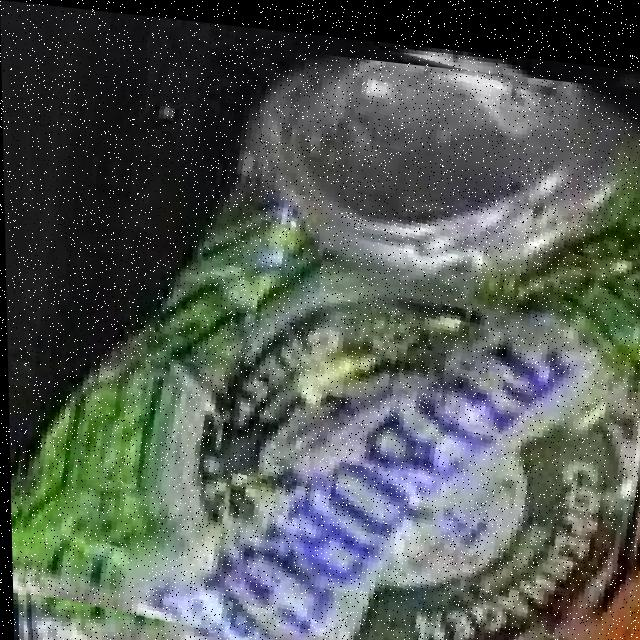litter: (17, 49, 640, 640)
